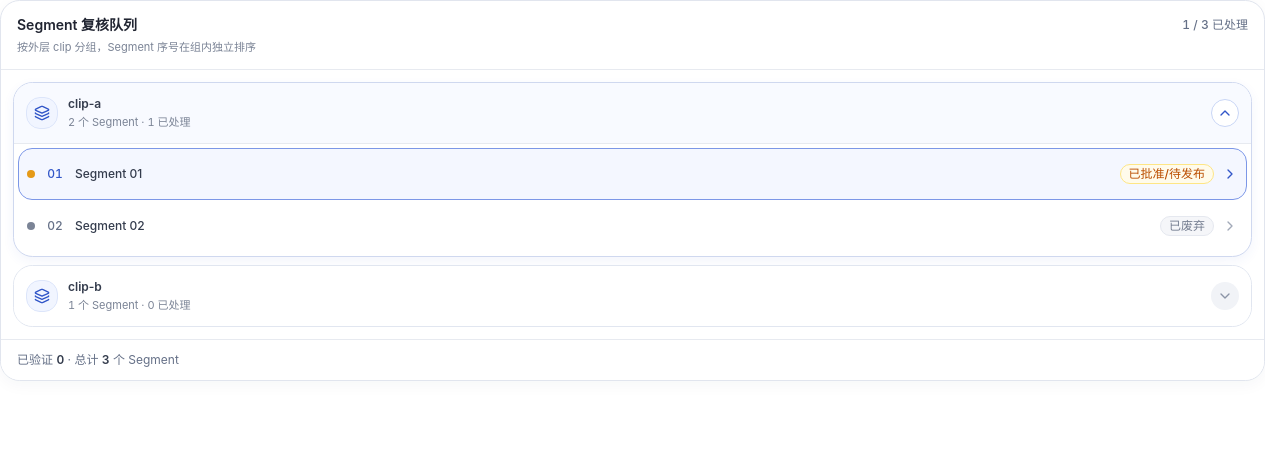
Test: groups reviews by outer clip and numbers segments independently inside each group
Expected: the button with aria-label "收起外层 clip clip-a" is shown, top-left (14, 83), bottom-right (1251, 143)
Expected: the text "2 个 Segment · 1 已处理" is shown, top-left (68, 115), bottom-right (191, 129)
Click the button with aria-label "展开外层 clip clip-b": (42, 296) top-left (14, 266), bottom-right (1251, 326)
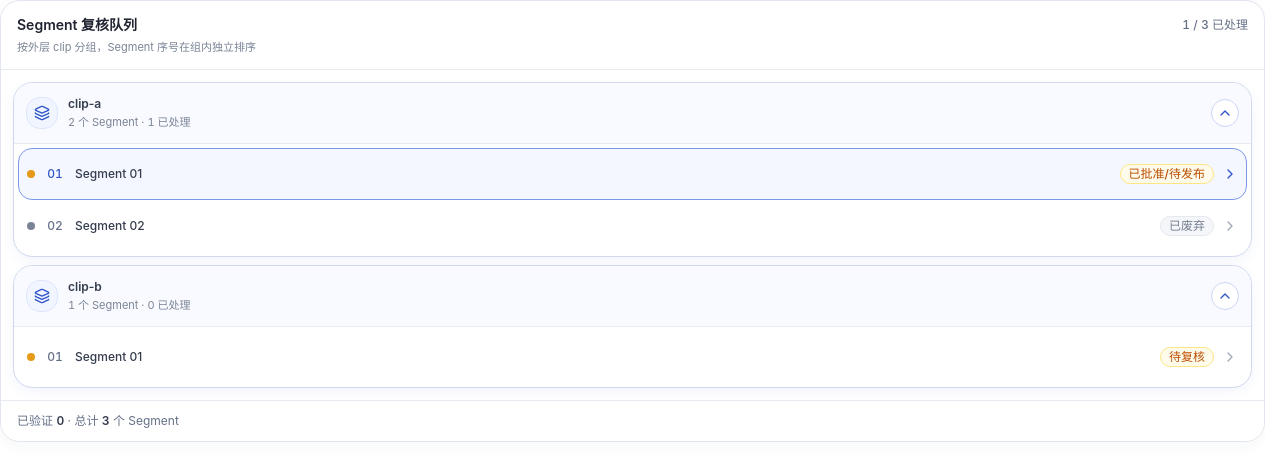
Now the button with aria-label "打开 Segment 01，待复核" is shown, box top-left (18, 331), bottom-right (1247, 383)
